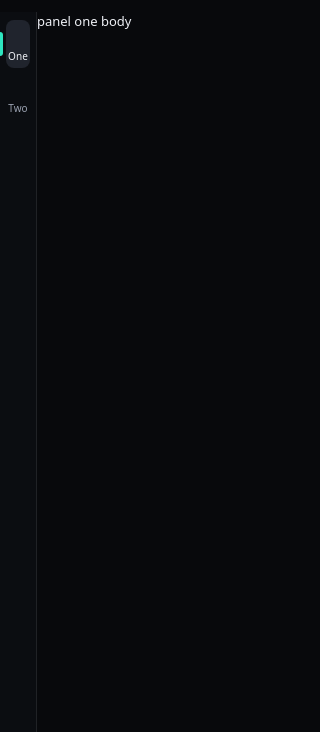
Test: active left panel API › clicking a tab goes through the same API (keeps role=tab and title markup)
Click the tab "Two" at point(18, 96), box [6,72,30,120]
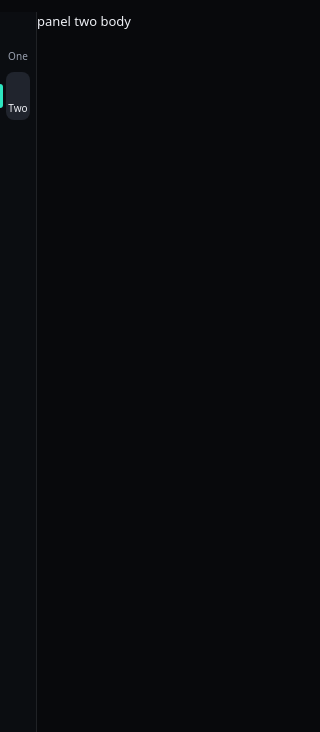
Expected: the text "panel two body" is shown, [37,12,131,30]
